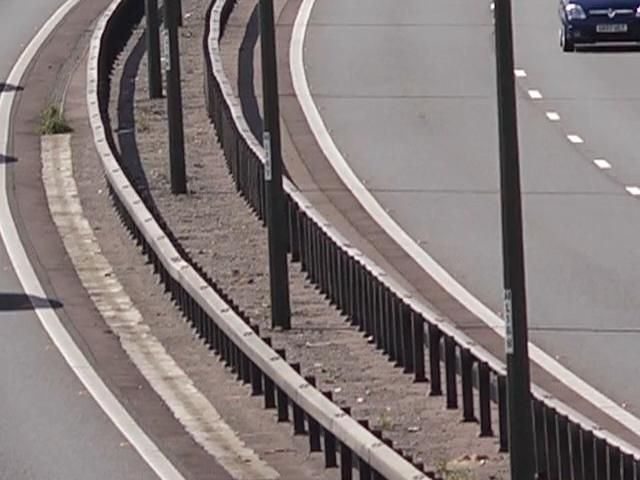car: (556, 0, 640, 48)
